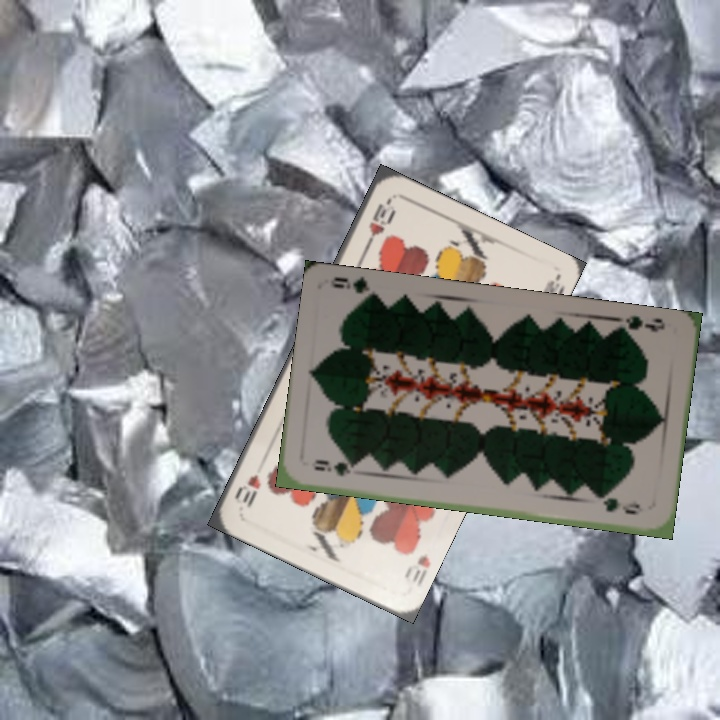G9: (614, 311, 668, 338), (310, 456, 362, 479)
H10: (361, 195, 396, 251), (400, 550, 433, 590)
